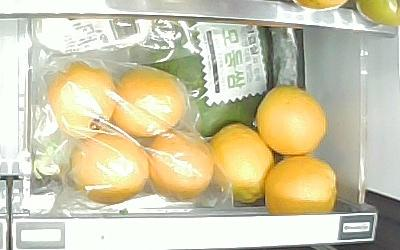orange: (211, 124, 274, 205), (257, 85, 327, 155), (267, 154, 339, 215)
orange_vinyl: (69, 131, 149, 204), (114, 66, 185, 136), (51, 61, 116, 137), (149, 133, 216, 200)
